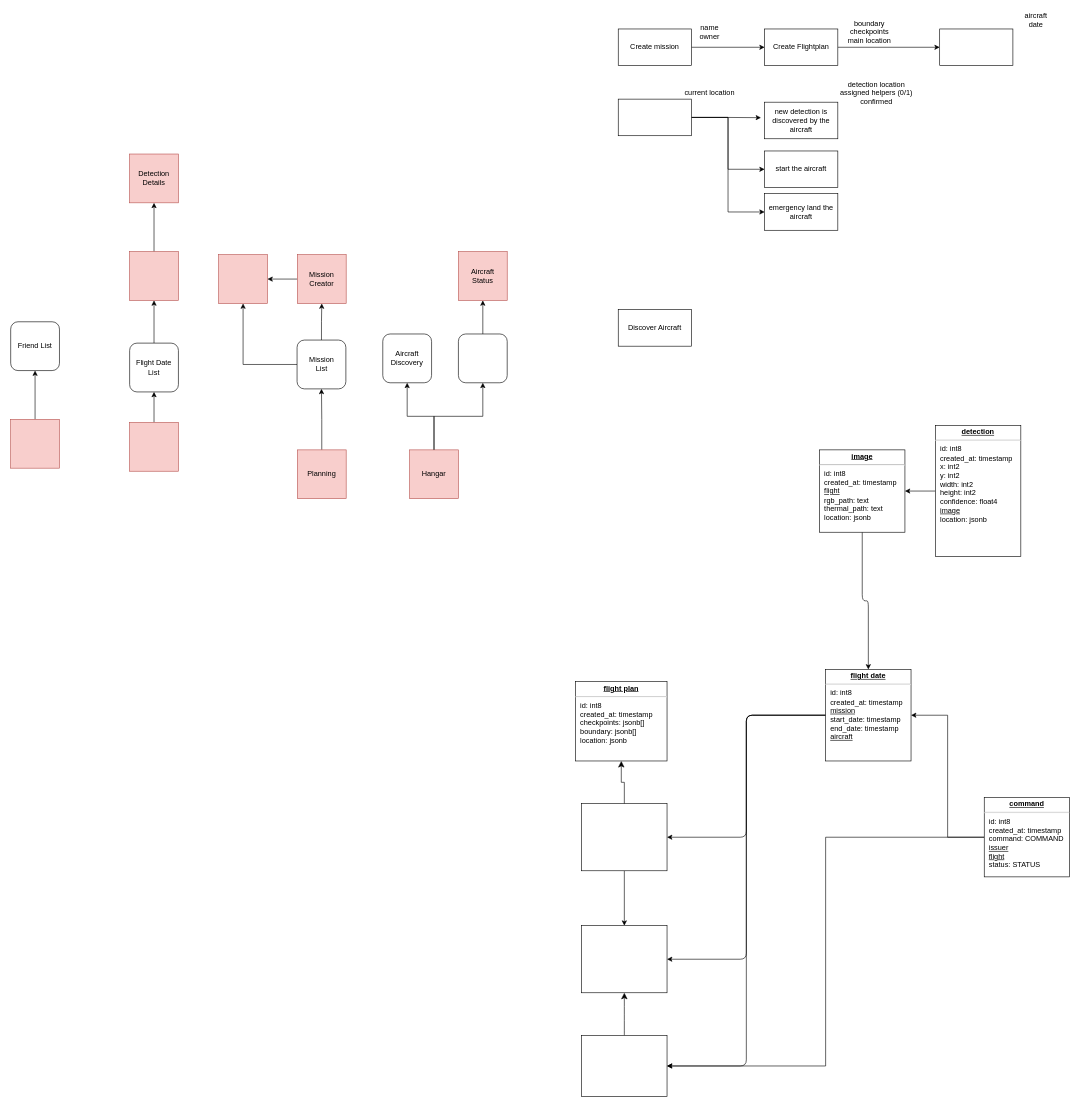
Image size: 1080x1107. Some labels were removed from this diagram. The shapes that lost their labels are listed below. From the top down, each one's centre as x and y in pixels, then its label:
point 976,47: Create Flight Date
point 654,117: mark self as active for flight date
point 153,275: Pilot
point 242,278: Flight Date Creator
point 482,358: Aircraft List
point 34,443: Friends
point 153,446: Homepage
point 624,837: mission id: int8 created_at: timestamp flight_plan owner description: text
point 624,959: user id: int8 created_at: timestamp
point 624,1065: aircraft id: int8 created_at: timestamp owner name: text
